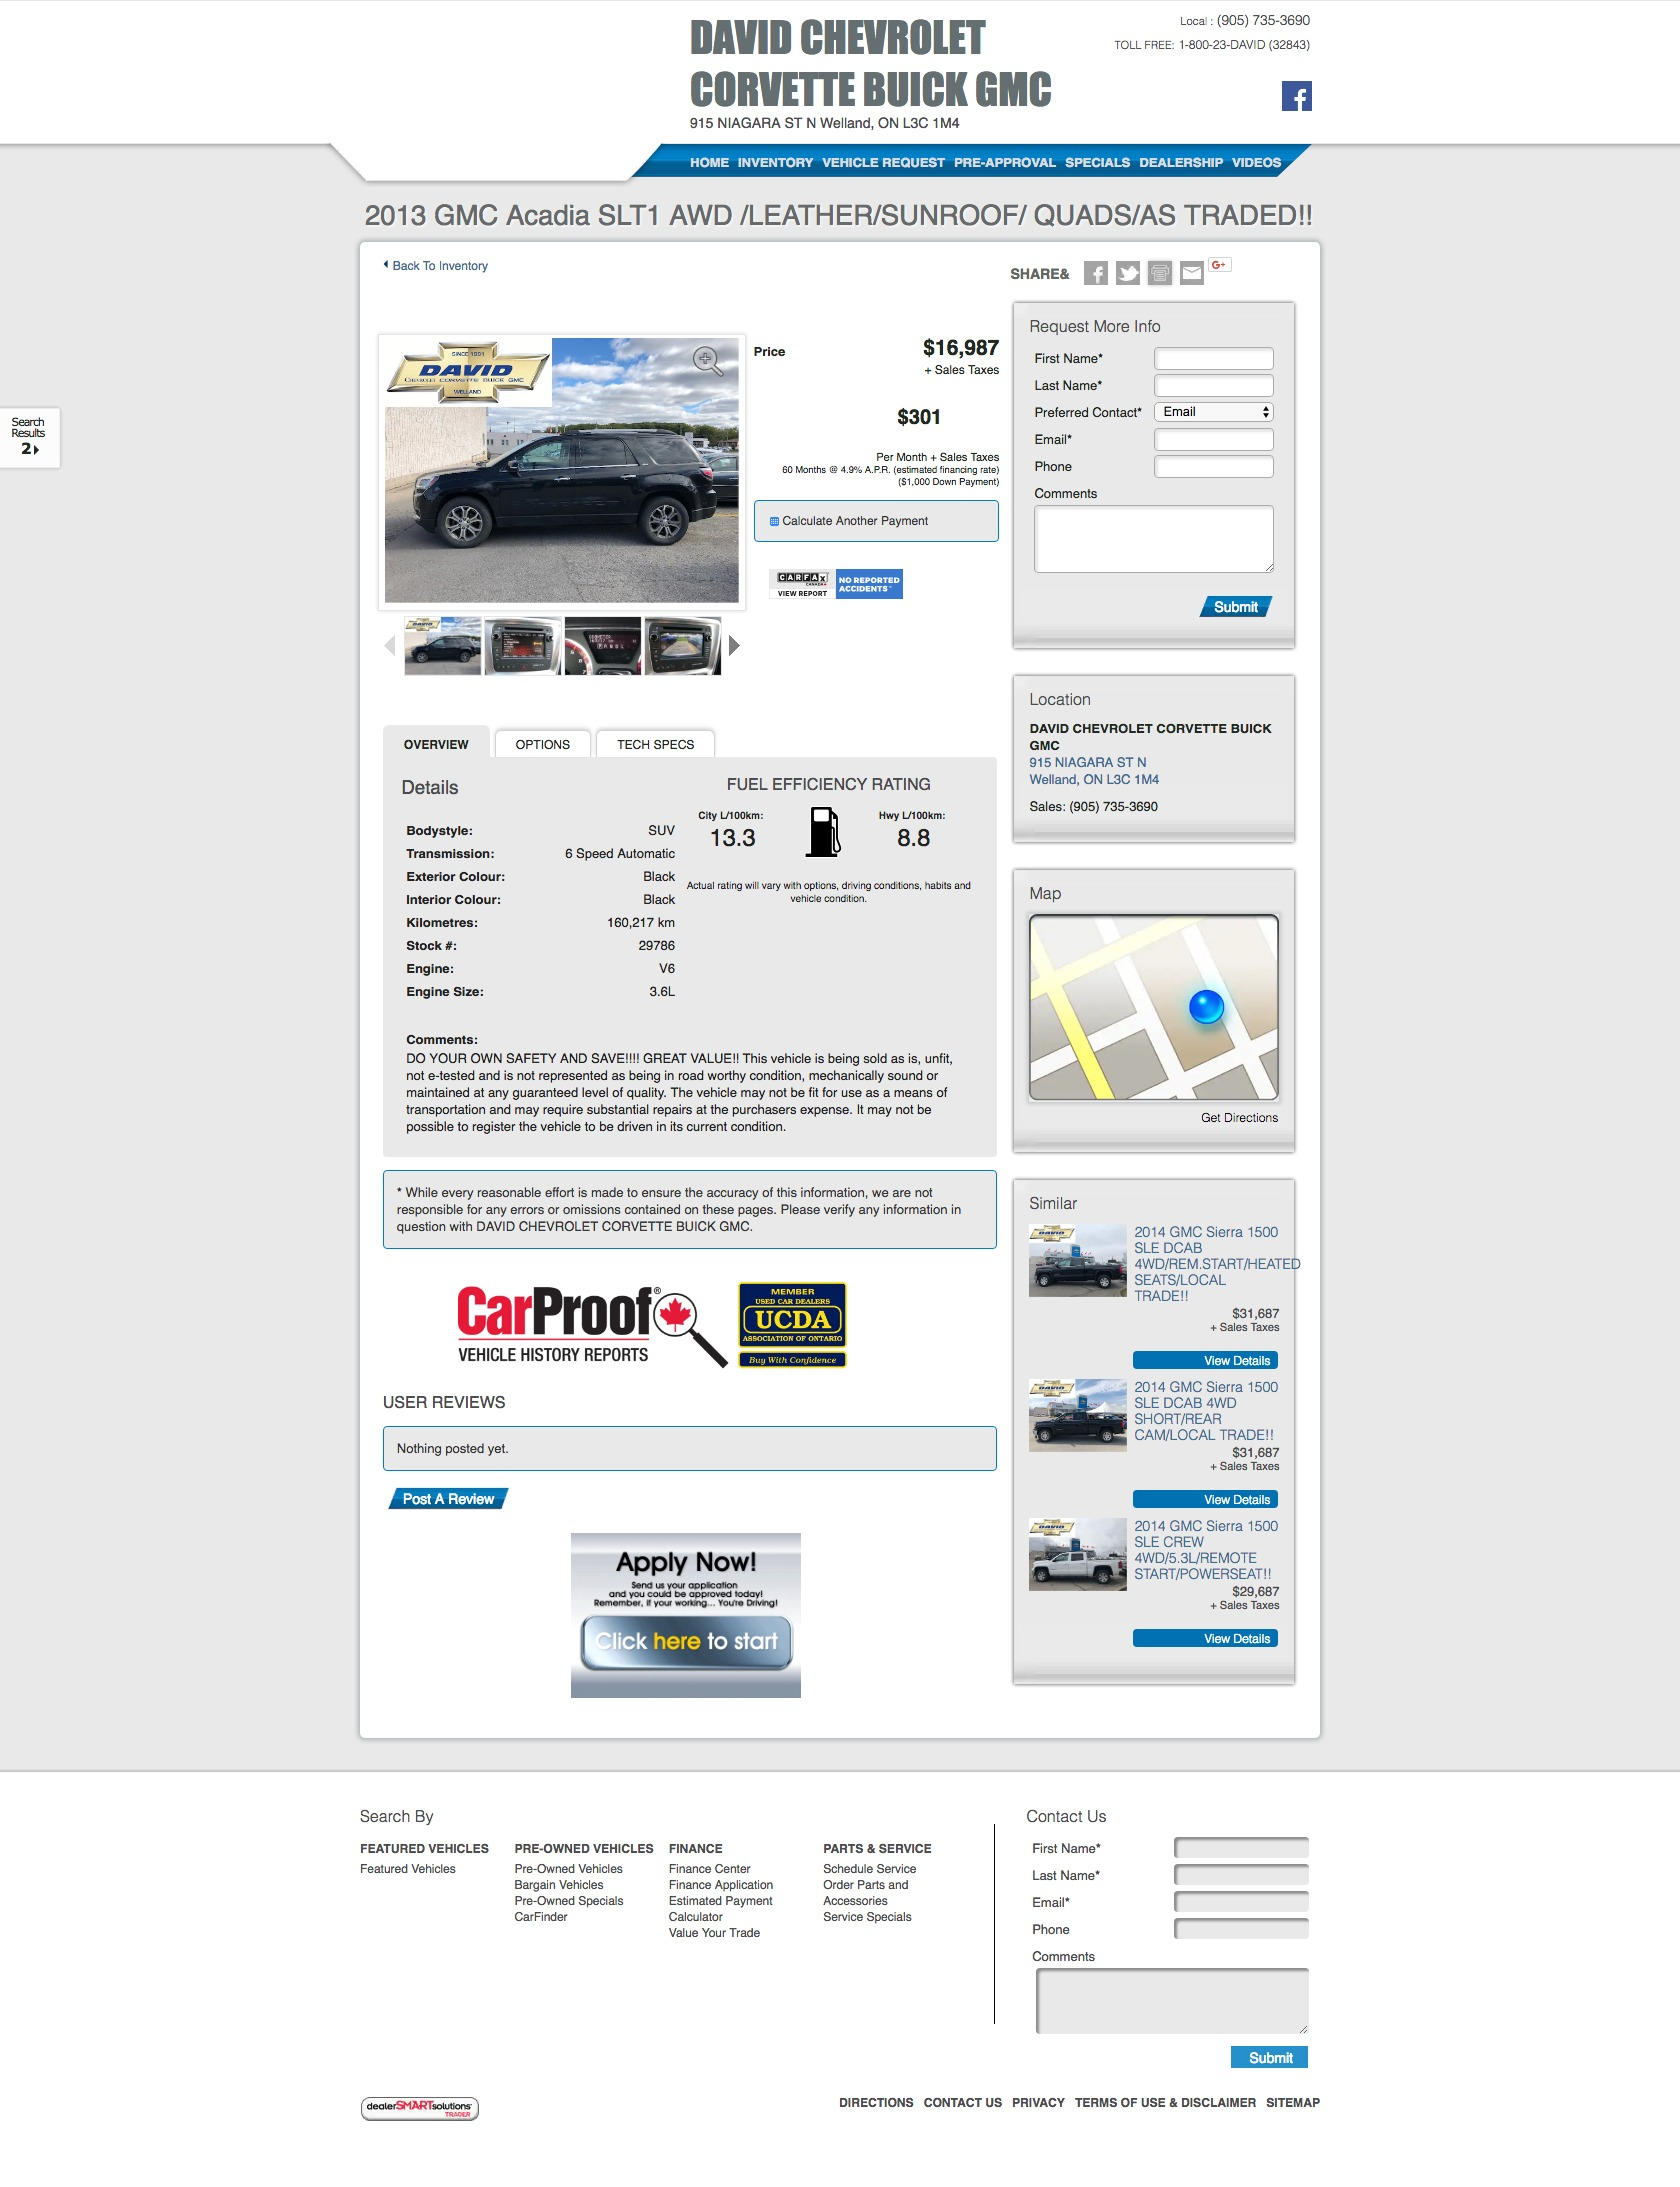car: (729, 634, 741, 658)
